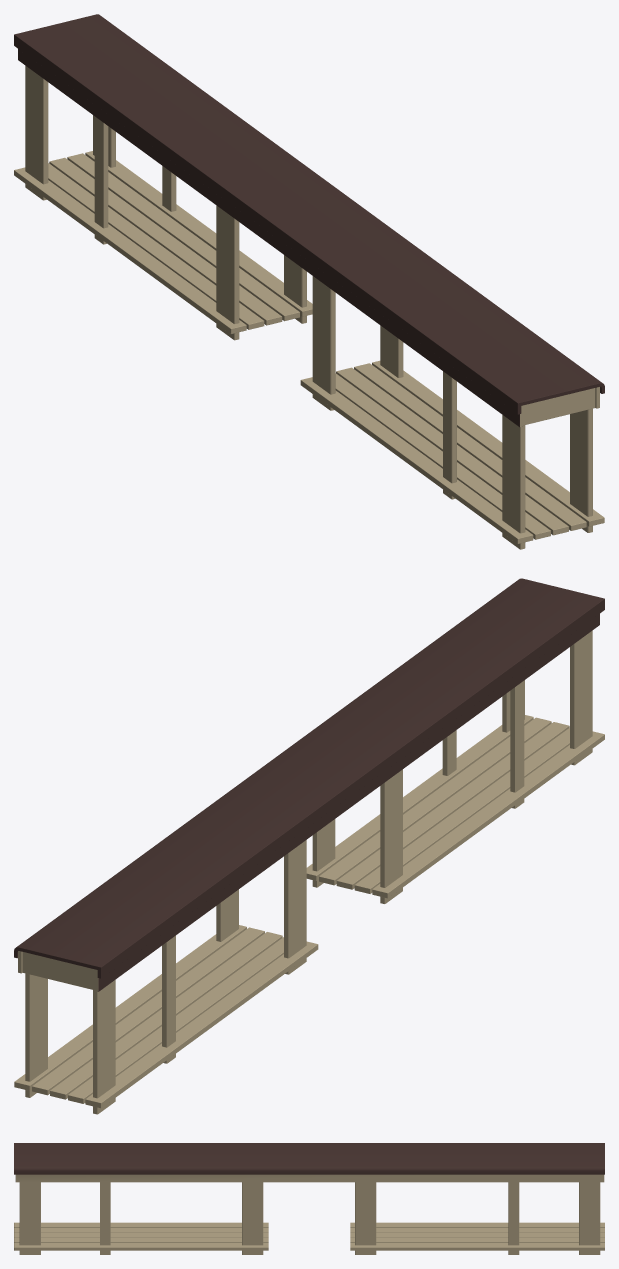
Rendered from Workbench.fbx.
3 views of the same model, one above another, from view 1: azimuth 30°, elevation 25°; view 2: azimuth 150°, elevation 25°; view 3: azimuth 270°, elevation 25° (orthographic). The views are drawn at different scales.
Visible parts, largest first — view 1: WorkBenchLong; view 2: WorkBenchLong; view 3: WorkBenchLong.
Part boxes in pixels (<box>): WorkBenchLong: <box>14,14,604,549</box>; WorkBenchLong: <box>14,578,604,1114</box>; WorkBenchLong: <box>14,1143,604,1254</box>.
Bounding box in the file's own units: 100 × 166 × 1000.
